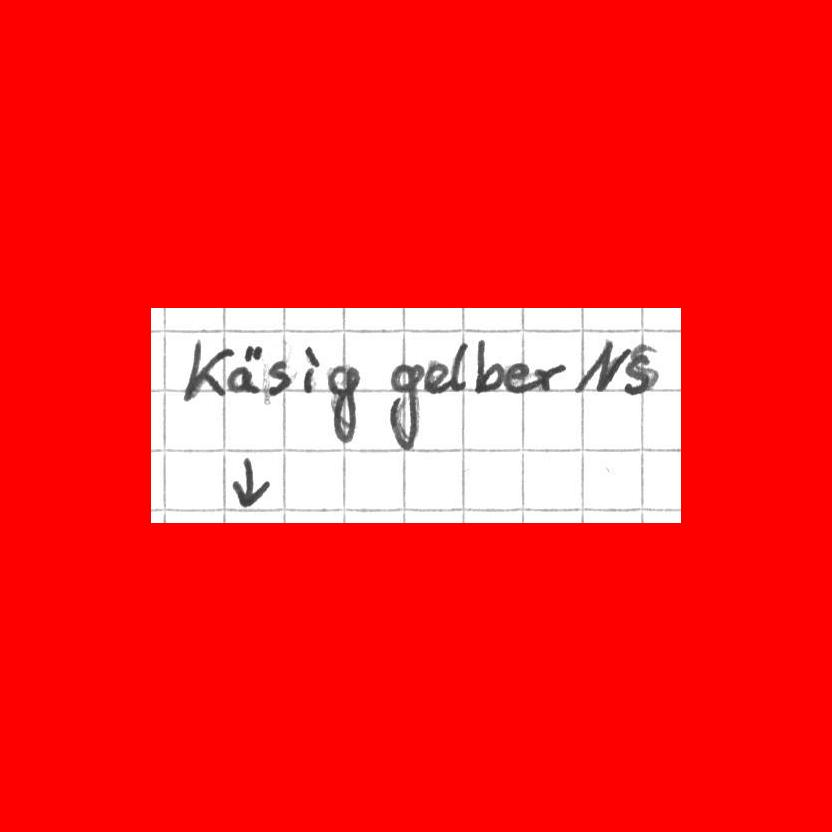Char: (387, 362, 423, 452), (184, 337, 232, 402), (574, 338, 625, 398), (324, 361, 359, 448), (226, 454, 271, 508), (225, 343, 263, 396), (473, 336, 505, 396), (264, 354, 293, 399), (623, 352, 651, 397), (299, 343, 320, 397), (533, 362, 567, 395), (448, 341, 468, 391), (505, 359, 535, 392), (424, 358, 448, 394)
